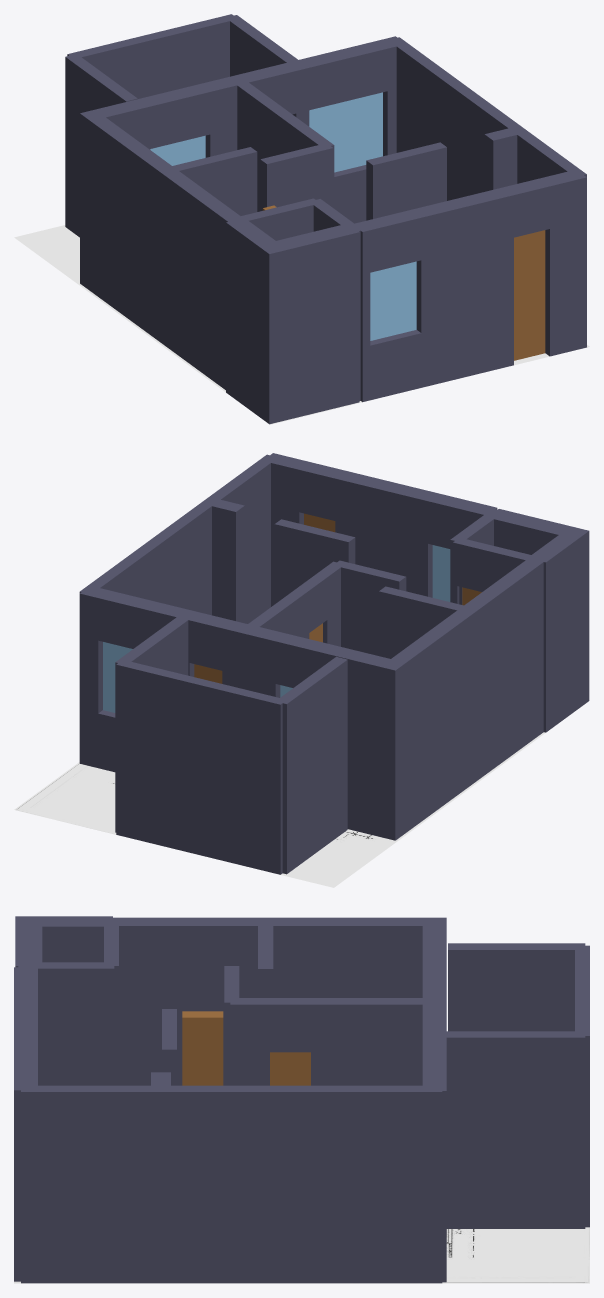
3 views of the same model, one above another, from view 1: azimuth 30°, elevation 25°; view 2: azimuth 150°, elevation 25°; view 3: azimuth 270°, elevation 25° (orthographic). The views are drawn at different scales.
Parts seen in each view (by area): view 1: wall, Window, Door, FloorPlan; view 2: wall, FloorPlan, Window, Door; view 3: wall, FloorPlan, door, Door.
Part boxes in pixels (bbox=[...]): wall: bbox=[65, 14, 586, 424]; Window: bbox=[150, 92, 416, 340]; Door: bbox=[514, 230, 545, 360]; FloorPlan: bbox=[14, 225, 589, 424]; wall: bbox=[79, 453, 589, 874]; FloorPlan: bbox=[14, 700, 589, 887]; Window: bbox=[103, 545, 450, 712]; Door: bbox=[194, 513, 481, 683]; wall: bbox=[14, 916, 589, 1283]; FloorPlan: bbox=[14, 1227, 589, 1283]; door: bbox=[182, 1011, 223, 1085]; Door: bbox=[270, 1052, 310, 1085].
Size of the model in its own units: 5.51 by 2.8 by 7.64.
5 materials, 1 textured.
